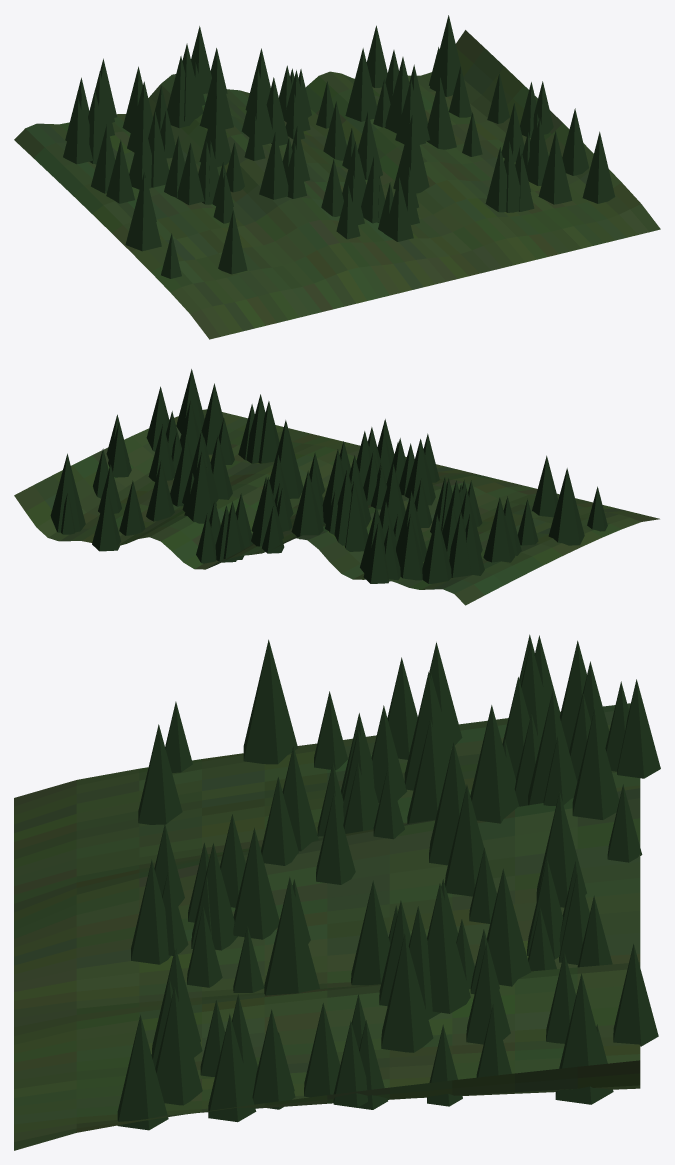
File: bg_forest_ridge_1_idle.glb
The picture shows the model from 3 angles, top to bottom: view 1: azimuth 30°, elevation 25°; view 2: azimuth 150°, elevation 25°; view 3: azimuth 270°, elevation 25°; orthographic projection. The views are drawn at different scales.
Visible parts, largest first — view 1: ridge; view 2: ridge; view 3: ridge.
Part boxes in pixels (bbox=[...]): ridge: bbox=[14, 15, 660, 339]; ridge: bbox=[14, 369, 659, 605]; ridge: bbox=[14, 634, 660, 1150].
Size of the model in its own units: 40.14 by 11.82 by 30.99.
